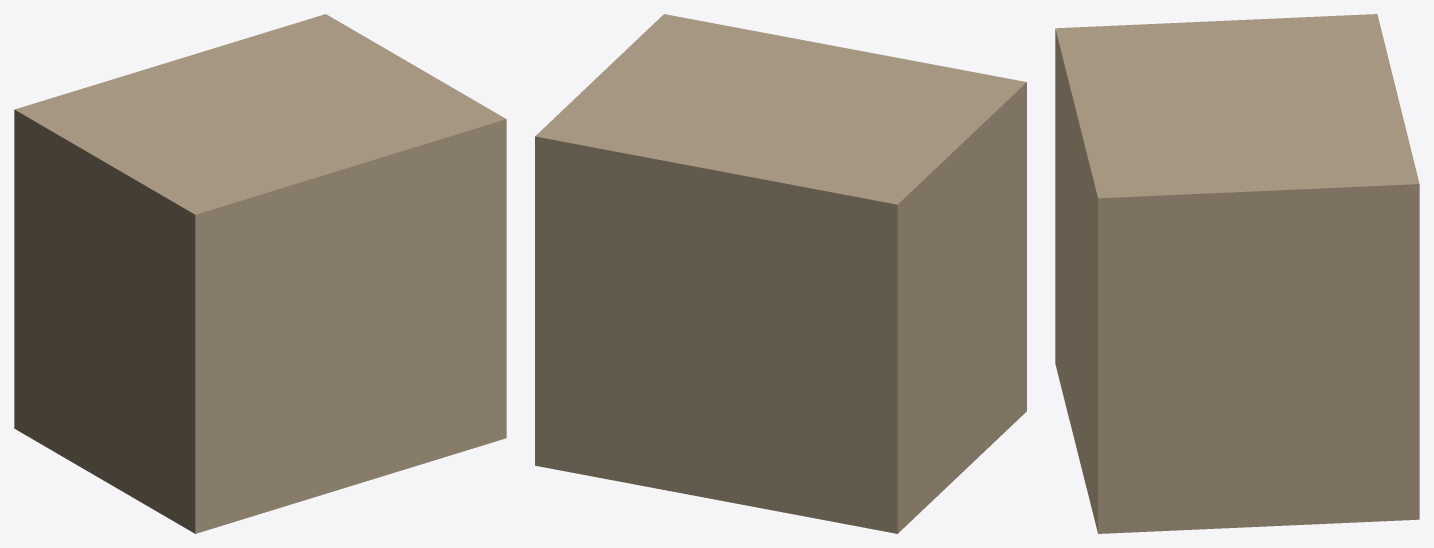
The model's file is bld_101791707.dae.
3 views of the same model, side by side, from view 1: azimuth 30°, elevation 25°; view 2: azimuth 150°, elevation 25°; view 3: azimuth 270°, elevation 25° (orthographic). The views are drawn at different scales.
Parts seen in each view (by area): view 1: bld_101791707; view 2: bld_101791707; view 3: bld_101791707.
Part boxes in pixels (box(x1,y1,x2,y2)): bld_101791707: box(14, 14, 506, 533); bld_101791707: box(535, 14, 1026, 533); bld_101791707: box(1055, 14, 1419, 533).
Bounding box in the file's own units: 9.42 × 7.87 × 8.
